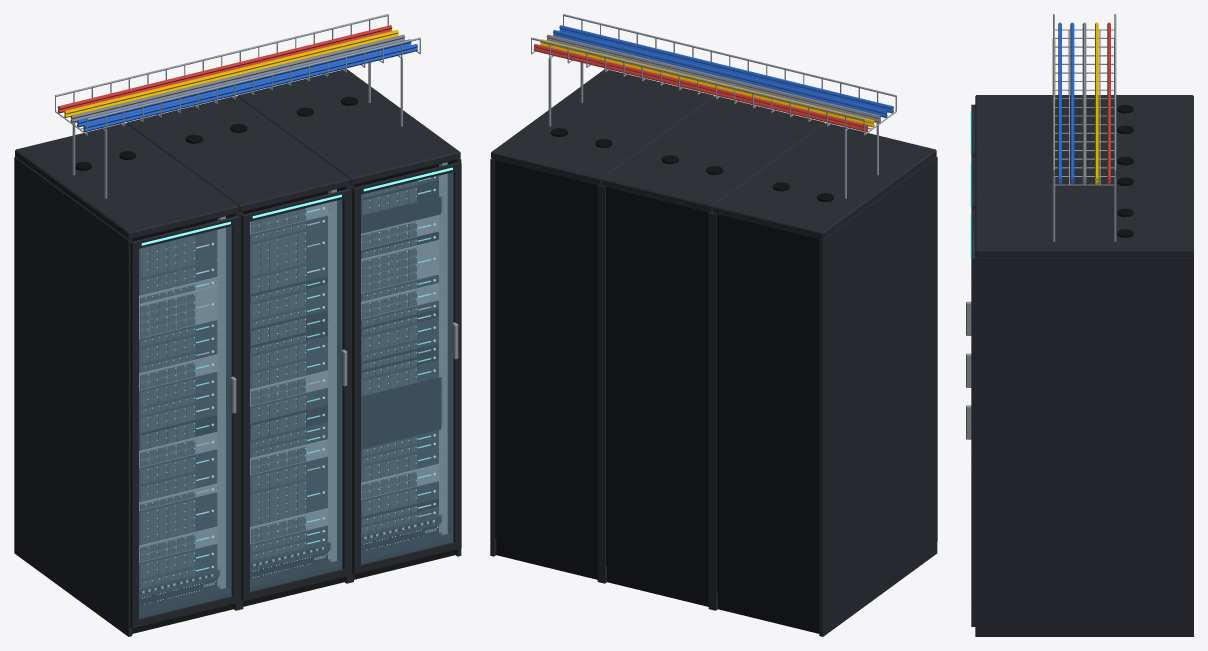
File: 04_Rack_Row_3x_With_Cable_Tray.fbx
3 views of the same model, side by side, from view 1: azimuth 30°, elevation 25°; view 2: azimuth 150°, elevation 25°; view 3: azimuth 270°, elevation 25° (orthographic). The views are drawn at different scales.
Visible parts, largest first — view 1: 04_Rack_Row_3x_With_Cable_Tray; view 2: 04_Rack_Row_3x_With_Cable_Tray; view 3: 04_Rack_Row_3x_With_Cable_Tray.
Part boxes in pixels (box(x1,y1,x2,y2)): 04_Rack_Row_3x_With_Cable_Tray: box(14, 14, 461, 636); 04_Rack_Row_3x_With_Cable_Tray: box(490, 14, 937, 636); 04_Rack_Row_3x_With_Cable_Tray: box(966, 14, 1193, 636).
Size of the model in its own units: 181 by 252 by 112.
